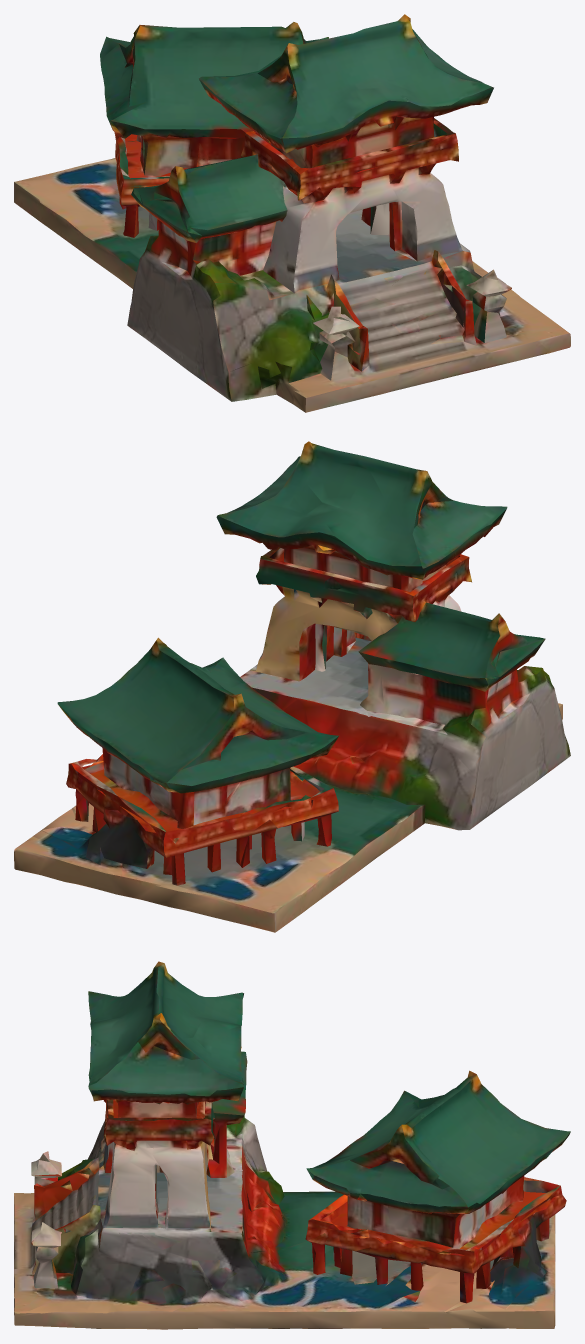
Rendered from akama-jingu.glb.
The picture shows the model from 3 angles, top to bottom: view 1: azimuth 30°, elevation 25°; view 2: azimuth 150°, elevation 25°; view 3: azimuth 270°, elevation 25°; orthographic projection. The views are drawn at different scales.
Visible parts, largest first — view 1: logan-textured.obj; view 2: logan-textured.obj; view 3: logan-textured.obj.
Boxes of the visible parts, left/top/right/bottom form: logan-textured.obj: left=14, top=14, right=570, bottom=412; logan-textured.obj: left=14, top=441, right=570, bottom=932; logan-textured.obj: left=14, top=961, right=570, bottom=1329.
Bounding box in the file's own units: 0.6096 × 0.5504 × 1.
1 material, 1 textured.
